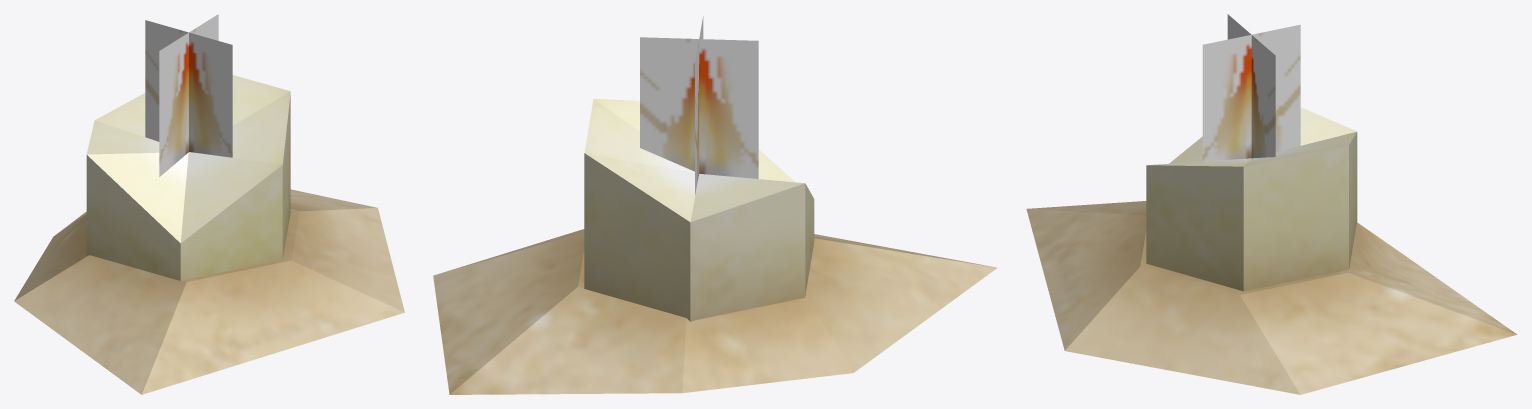
The model's file is Candle_3.fbx.
3 views of the same model, side by side, from view 1: azimuth 30°, elevation 25°; view 2: azimuth 150°, elevation 25°; view 3: azimuth 270°, elevation 25° (orthographic). The views are drawn at different scales.
Visible parts, largest first — view 1: Candle_3; view 2: Candle_3; view 3: Candle_3.
Boxes of the visible parts, <box> form: Candle_3: <box>14,14,404,394</box>; Candle_3: <box>433,16,997,394</box>; Candle_3: <box>1026,14,1516,394</box>.
Size of the model in its own units: 11.32 by 7.18 by 12.63.
